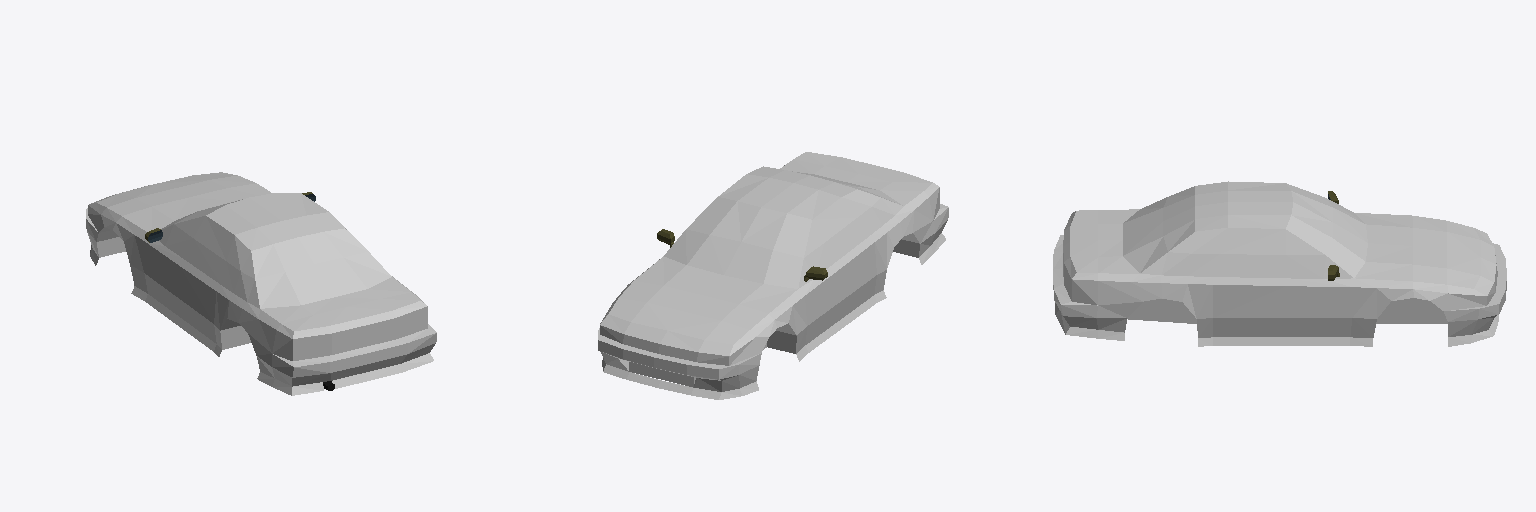
3 views of the same model, side by side, from view 1: azimuth 30°, elevation 25°; view 2: azimuth 150°, elevation 25°; view 3: azimuth 270°, elevation 25° (orthographic).
Parts seen in each view (by area): view 1: car_car_mesh; view 2: car_car_mesh; view 3: car_car_mesh.
Boxes of the visible parts, x1,y1,x2,y2 form: car_car_mesh: [86, 172, 436, 395]; car_car_mesh: [598, 152, 948, 399]; car_car_mesh: [1053, 181, 1506, 346].
Size of the model in its own units: 4.28 by 2.63 by 10.03.